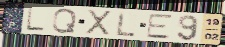9: (177, 14, 200, 42)
E: (146, 13, 174, 40)
L: (24, 5, 47, 32), (116, 11, 137, 38)
Q: (51, 8, 79, 35)
X: (85, 9, 113, 36)
